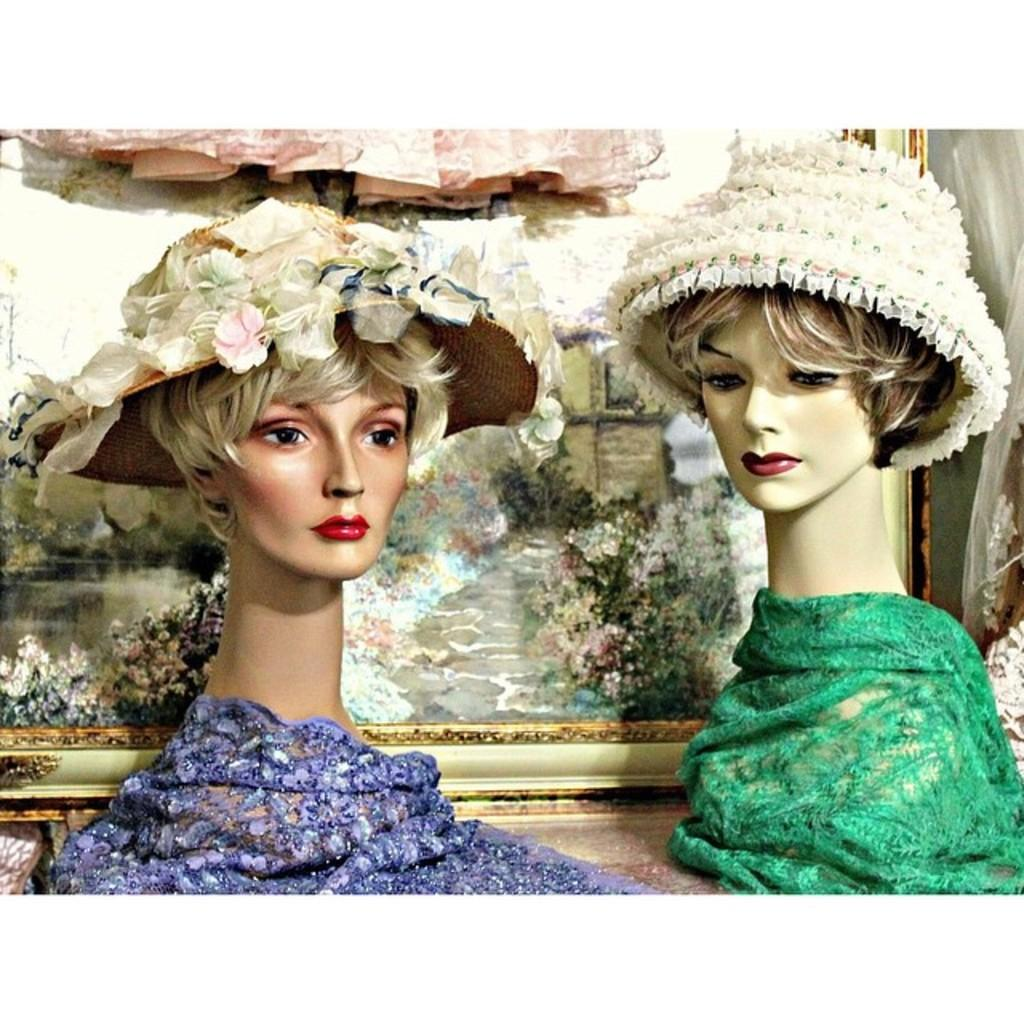Hat: (0, 198, 556, 492), (604, 134, 1006, 460)
